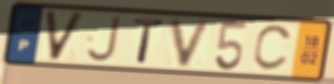5: (213, 21, 249, 72)
C: (251, 24, 296, 74)
J: (84, 14, 123, 64)
T: (132, 16, 166, 66)
V: (42, 9, 88, 64), (169, 18, 215, 70)
